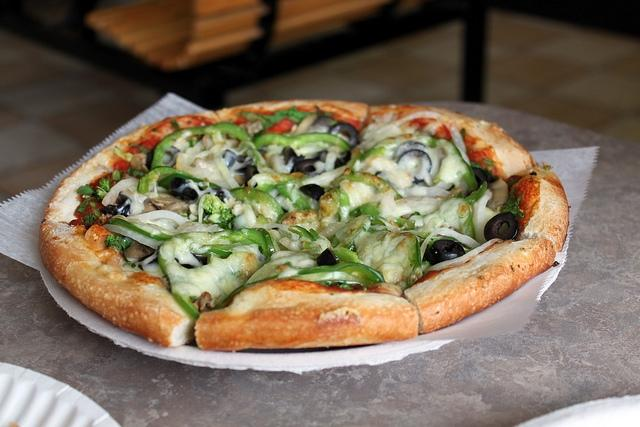bell pepper: (151, 122, 251, 170), (324, 168, 404, 200), (210, 276, 278, 310), (254, 132, 352, 153), (208, 227, 270, 260), (230, 187, 284, 223), (297, 262, 384, 284), (136, 166, 200, 194), (274, 176, 320, 212), (106, 218, 172, 241), (451, 145, 478, 198), (288, 271, 374, 287), (401, 232, 422, 294), (334, 216, 370, 244), (466, 182, 488, 220), (172, 292, 200, 320), (158, 173, 203, 190), (458, 204, 476, 241), (350, 202, 380, 218), (332, 248, 360, 264), (256, 110, 286, 124), (387, 216, 408, 228), (401, 220, 416, 231)
onion: (423, 238, 504, 272), (420, 227, 481, 264), (372, 110, 442, 138), (104, 224, 164, 250), (210, 143, 240, 188), (102, 178, 140, 207), (126, 210, 186, 226), (404, 184, 451, 198), (128, 191, 148, 216), (427, 220, 448, 232)
